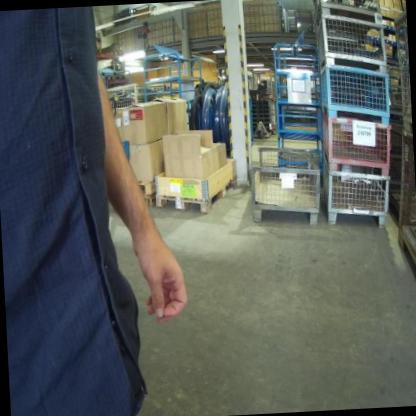pallet: (154, 174, 239, 217), (136, 168, 166, 197)
pallet_truck: (249, 83, 275, 142)
stillage: (247, 140, 325, 229), (319, 150, 389, 231), (316, 109, 391, 179), (310, 10, 388, 77), (315, 59, 392, 126), (389, 125, 416, 294), (394, 11, 411, 134), (310, 0, 384, 27), (106, 83, 162, 115)
